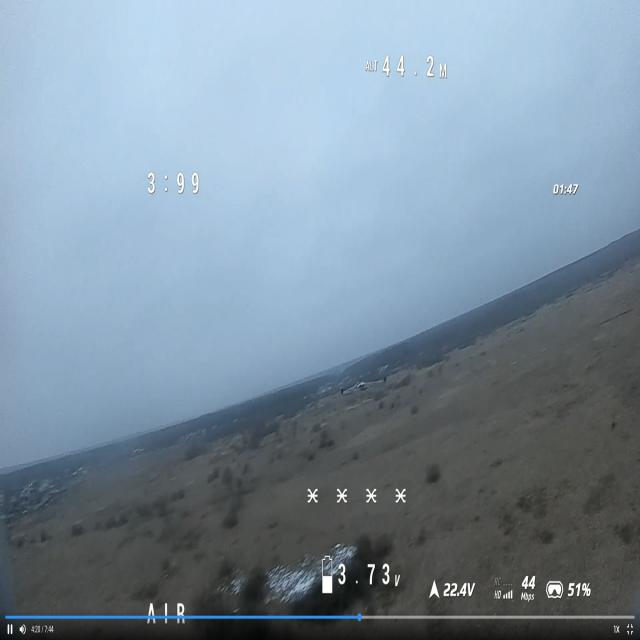planedrone: (339, 372, 388, 398)
